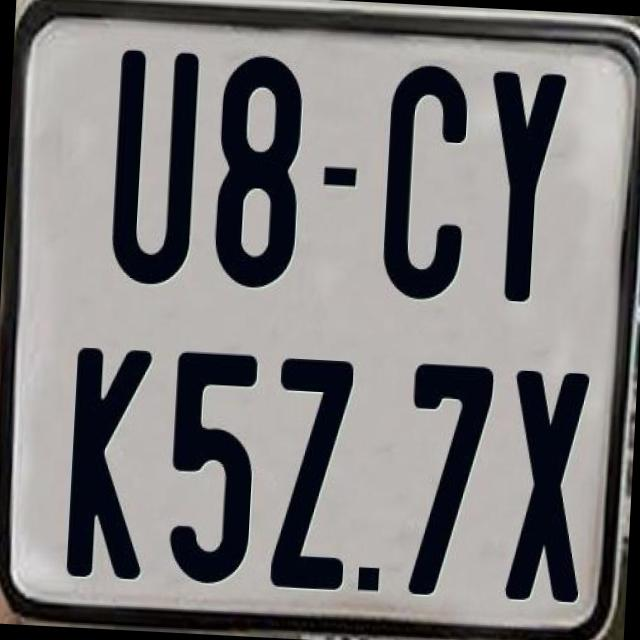5: (162, 346, 256, 590)
7: (402, 360, 496, 598)
8: (211, 49, 306, 285)
C: (377, 62, 469, 306)
K: (64, 345, 154, 580)
U: (107, 45, 198, 288)
X: (501, 367, 591, 608)
Y: (481, 67, 571, 306)
Z: (266, 354, 351, 592)
